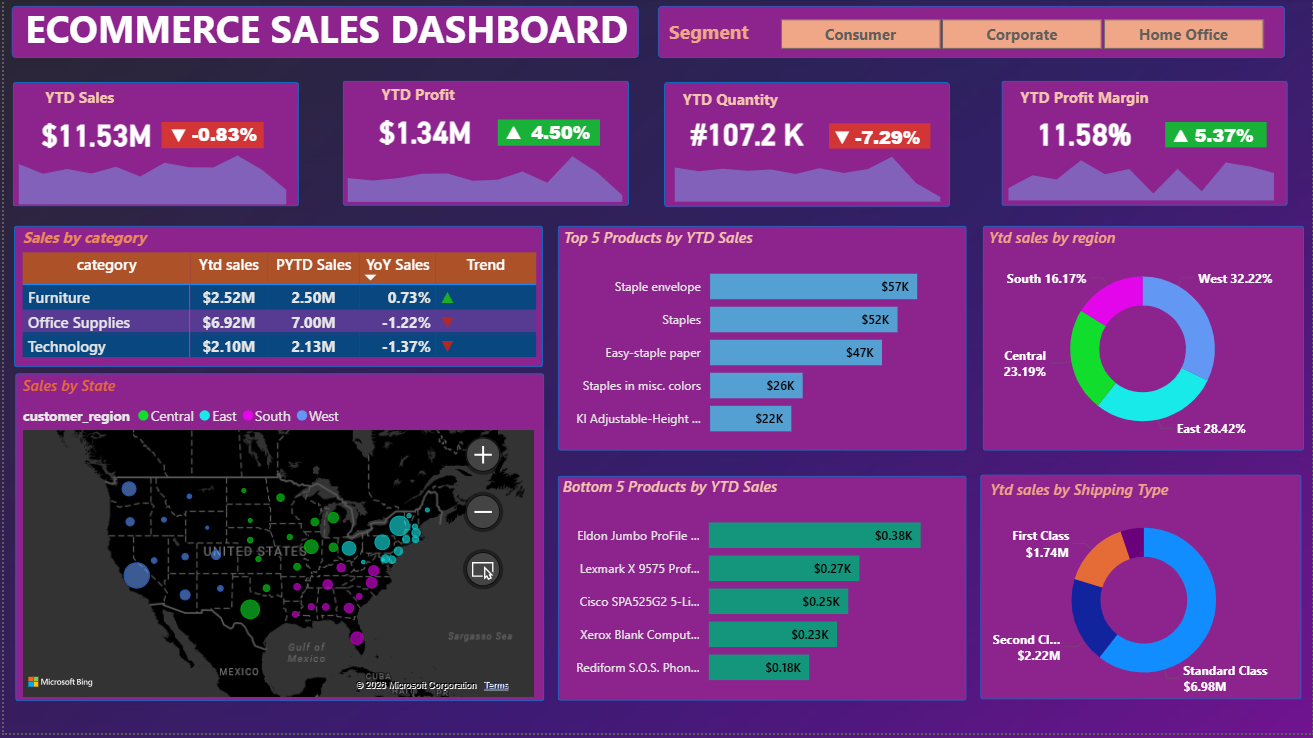

This screenshot's page, from the dashboard's own definition file:
{"tool":"powerbi","page":{"name":"Page 1","canvas":[1280,720],"ordinal":0},"visuals":[{"type":"shape","box":[7,8.1,614,51.2],"z":0},{"type":"textbox","box":[16.3,0,612.8,67.4],"z":1000},{"type":"shape","box":[8,82.6,279.9,121.9],"z":2000},{"type":"card","title":"YTd Sales","fields":{"Values":["ecommerce_data.Ytd sales"]},"box":[9.2,107.9,161.7,51.9],"z":3000},{"type":"shape","box":[154,122.4,100.1,25.3],"z":4000},{"type":"card","title":"YTd Sales","fields":{"Values":["ecommerce_data.YOY sales"]},"box":[170.9,118.8,89.3,36.2],"z":5000},{"type":"card","title":"YTd Sales","fields":{"Values":["ecommerce_data.sales icon"]},"box":[128.2,122,84.7,25.8],"z":6000},{"type":"textbox","box":[35.7,82.6,83.2,37.4],"z":7000},{"type":"shape","box":[331.6,81.9,280,122.3],"z":8000},{"type":"card","title":"YTd Sales","fields":{"Values":["ecommerce_data.Ytd profit"]},"box":[331.6,105.2,161.4,51.4],"z":9000},{"type":"areaChart","fields":{"Category":["calender.month"],"Y":["Sum(ecommerce_data.profit_per_order)"]},"box":[321.6,141.1,298.2,65],"z":10000},{"type":"shape","box":[482.7,119.3,100.1,25.3],"z":11000},{"type":"card","title":"YTd Sales","fields":{"Values":["ecommerce_data.YoY profit"]},"box":[499.6,115.7,89.3,36.2],"z":12000},{"type":"card","title":"YTd Sales","fields":{"Values":["ecommerce_data.profit icon"]},"box":[456.1,118.6,84.7,24.5],"z":13000},{"type":"textbox","box":[364.5,79.5,83.2,37.4],"z":14000},{"type":"areaChart","fields":{"Y":["Sum(ecommerce_data.sales_per_order)"],"Category":["calender.month"]},"box":[0,133.7,290.8,74.8],"z":15000},{"type":"shape","box":[645.9,83.2,279.8,122.7],"z":16000},{"type":"card","title":"YTd Sales","fields":{"Values":["ecommerce_data.ytd concatenate Qty"]},"box":[645.6,107.5,162.6,51.4],"z":17000},{"type":"areaChart","fields":{"Category":["calender.month"],"Y":["Sum(ecommerce_data.order_quantity)"]},"box":[642,140.6,288.6,64.8],"z":18000},{"type":"shape","box":[806.6,123.6,99.4,24.5],"z":19000},{"type":"card","title":"YTd Sales","fields":{"Values":["ecommerce_data.YoY Qty"]},"box":[820.1,121.2,88.3,35.6],"z":20000},{"type":"card","title":"YTd Sales","fields":{"Values":["ecommerce_data.Qty icon"]},"box":[777.2,123.6,84.7,24.5],"z":21000},{"type":"textbox","box":[659.4,84.4,126.4,38],"z":22000},{"type":"shape","box":[975.6,81.9,280,122.3],"z":23000},{"type":"card","title":"YTd Sales","fields":{"Values":["ecommerce_data.Ytd profit margin"]},"box":[975.8,107.7,162,51.5],"z":24000},{"type":"areaChart","fields":{"Category":["calender.month"],"Y":["ecommerce_data.profit margin"]},"box":[968,139.4,288.6,64.8],"z":25000},{"type":"shape","box":[1136.6,122.4,99.4,24.5],"z":26000},{"type":"card","title":"YTd Sales","fields":{"Values":["ecommerce_data.YoY profit margin"]},"box":[1150.1,120,88.3,35.6],"z":27000},{"type":"card","title":"YTd Sales","fields":{"Values":["ecommerce_data.profit margin icon"]},"box":[1108.9,122.3,84.4,24.5],"z":28000},{"type":"textbox","box":[989,83.2,148,37.9],"z":29000},{"type":"shape","box":[9.3,223.3,517.4,138.4],"z":30000},{"type":"pivotTable","title":"Sales by category","fields":{"Rows":["ecommerce_data.category_name"],"Values":["ecommerce_data.Ytd sales","ecommerce_data.PYTD Sales","ecommerce_data.YoY Sales Growth","ecommerce_data.sales icon"]},"box":[13.5,225,540.5,144.3],"z":31000},{"type":"shape","box":[10.5,368.6,517.4,320.9],"z":32000},{"type":"map","title":"Sales by State","fields":{"Y":["us_state_long_lat_codes.latitude"],"X":["us_state_long_lat_codes.longitude"],"Size":["ecommerce_data.Ytd sales"],"Series":["ecommerce_data.customer_region"]},"box":[13.5,369.3,509.9,320.4],"z":33000},{"type":"shape","box":[541.7,223.8,400,220],"z":34000},{"type":"shape","box":[541.7,468.3,399.9,220.1],"z":35000},{"type":"barChart","title":"Top 5 Products by YTD Sales","fields":{"Category":["ecommerce_data.product_name"],"Y":["ecommerce_data.Ytd sales"]},"box":[542.9,225,399.9,218.9],"z":36000},{"type":"barChart","title":"Bottom 5 Products by YTD Sales","fields":{"Category":["ecommerce_data.product_name"],"Y":["ecommerce_data.Ytd sales"]},"box":[541.7,468.3,399.9,218.9],"z":37000},{"type":"shape","box":[957.5,223.8,314.3,220.1],"z":38000},{"type":"shape","box":[955,467.1,314.3,220.1],"z":39000},{"type":"donutChart","title":"Ytd sales by region","fields":{"Category":["ecommerce_data.customer_region"],"Y":["ecommerce_data.Ytd sales"]},"box":[958.7,225,310.6,218.9],"z":40000},{"type":"donutChart","title":"Ytd sales by Shipping Type","fields":{"Y":["ecommerce_data.Ytd sales"],"Category":["ecommerce_data.shipping_type"]},"box":[959.9,470.8,310.6,218.9],"z":41000},{"type":"shape","box":[639.5,8.6,613.9,51.4],"z":42000},{"type":"slicer","fields":{"Values":["ecommerce_data.customer_segment"]},"box":[733.7,14.7,522.1,39.1],"z":43000},{"type":"textbox","box":[645.7,15.9,103.9,37.9],"z":44000}]}

Visuals, with their boxes in screenshot pixels (x1, y1, x2, y2), scaled from the page's 1280x720 canvas onto the 1313x738 screenshot:
shape: Rect(7, 8, 637, 61)
textbox: Rect(17, 0, 645, 69)
shape: Rect(8, 85, 295, 210)
"YTd Sales" card: Rect(9, 111, 175, 164)
shape: Rect(158, 125, 261, 151)
"YTd Sales" card: Rect(175, 122, 267, 159)
"YTd Sales" card: Rect(132, 125, 218, 151)
textbox: Rect(37, 85, 122, 123)
shape: Rect(340, 84, 627, 209)
"YTd Sales" card: Rect(340, 108, 506, 161)
areaChart - calender.month x Sum(ecommerce_data.profit_per_order): Rect(330, 145, 636, 211)
shape: Rect(495, 122, 598, 148)
"YTd Sales" card: Rect(512, 119, 604, 156)
"YTd Sales" card: Rect(468, 122, 555, 147)
textbox: Rect(374, 81, 459, 120)
areaChart - Sum(ecommerce_data.sales_per_order) x calender.month: Rect(0, 137, 298, 214)
shape: Rect(663, 85, 950, 211)
"YTd Sales" card: Rect(662, 110, 829, 163)
areaChart - calender.month x Sum(ecommerce_data.order_quantity): Rect(659, 144, 955, 211)
shape: Rect(827, 127, 929, 152)
"YTd Sales" card: Rect(841, 124, 932, 161)
"YTd Sales" card: Rect(797, 127, 884, 152)
textbox: Rect(676, 87, 806, 125)
shape: Rect(1001, 84, 1288, 209)
"YTd Sales" card: Rect(1001, 110, 1167, 163)
areaChart - calender.month x ecommerce_data.profit margin: Rect(993, 143, 1289, 209)
shape: Rect(1166, 125, 1268, 151)
"YTd Sales" card: Rect(1180, 123, 1270, 159)
"YTd Sales" card: Rect(1137, 125, 1224, 150)
textbox: Rect(1014, 85, 1166, 124)
shape: Rect(10, 229, 540, 371)
"Sales by category" pivotTable: Rect(14, 231, 568, 379)
shape: Rect(11, 378, 542, 707)
"Sales by State" map: Rect(14, 379, 537, 707)
shape: Rect(556, 229, 966, 455)
shape: Rect(556, 480, 966, 706)
"Top 5 Products by YTD Sales" barChart: Rect(557, 231, 967, 455)
"Bottom 5 Products by YTD Sales" barChart: Rect(556, 480, 966, 704)
shape: Rect(982, 229, 1305, 455)
shape: Rect(980, 479, 1302, 704)
"Ytd sales by region" donutChart: Rect(983, 231, 1302, 455)
"Ytd sales by Shipping Type" donutChart: Rect(985, 483, 1303, 707)
shape: Rect(656, 9, 1286, 61)
slicer - ecommerce_data.customer_segment: Rect(753, 15, 1288, 55)
textbox: Rect(662, 16, 769, 55)
